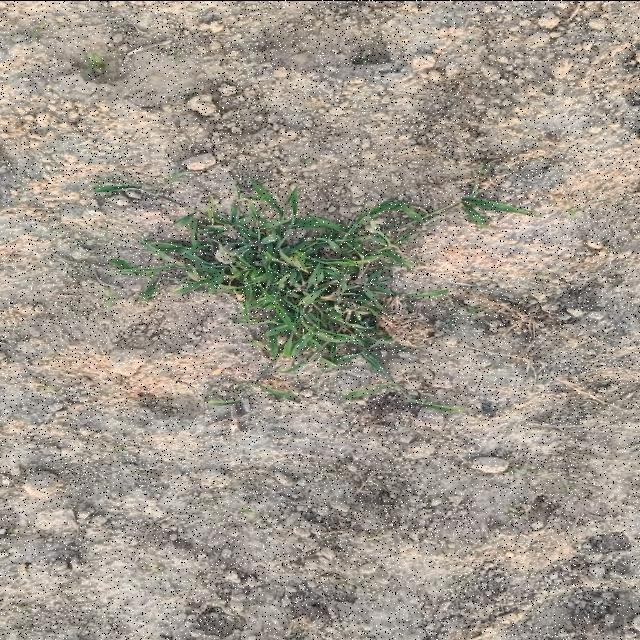weed: (111, 178, 531, 372)
